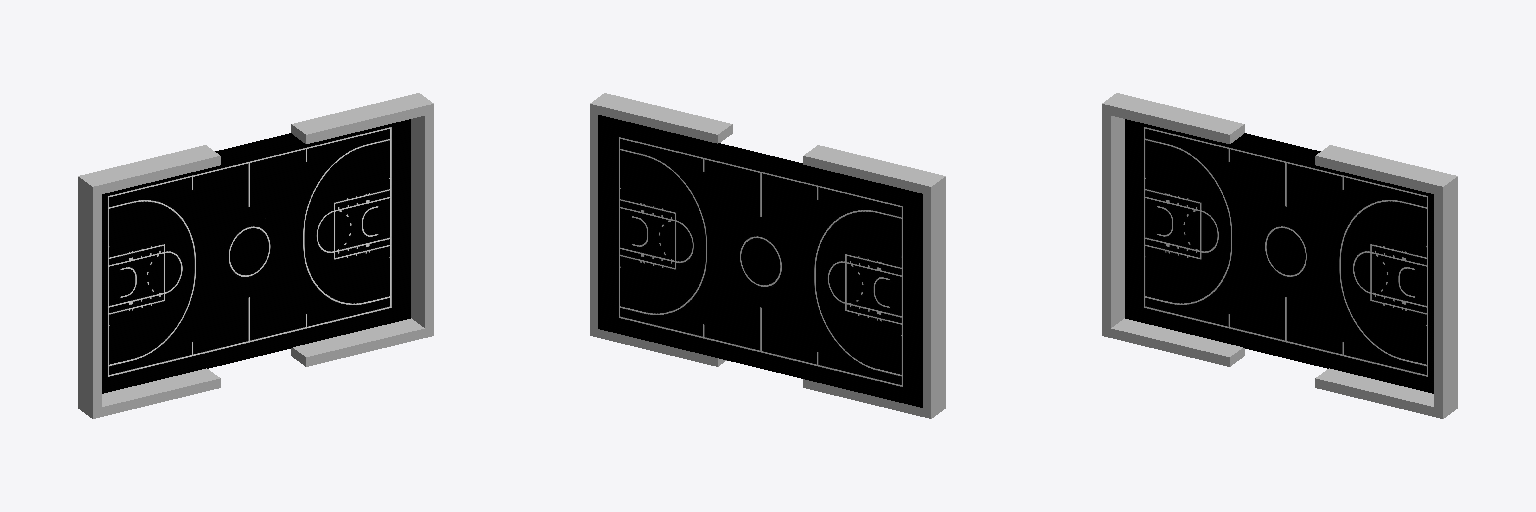
3 views of the same model, side by side, from view 1: azimuth 30°, elevation 25°; view 2: azimuth 150°, elevation 25°; view 3: azimuth 330°, elevation 25° (orthographic).
Parts seen in each view (by area): view 1: Object.3, Object.5, Object.2; view 2: Object.3, Object.5, Object.2; view 3: Object.3, Object.2, Object.5.
Boxes of the visible parts, x1,y1,x2,y2 form: Object.3: [102, 119, 410, 393]; Object.5: [78, 145, 220, 418]; Object.2: [291, 93, 433, 366]; Object.3: [598, 115, 922, 407]; Object.5: [803, 145, 945, 418]; Object.2: [590, 93, 732, 366]; Object.3: [1125, 119, 1433, 393]; Object.2: [1315, 145, 1457, 418]; Object.5: [1102, 93, 1244, 366].
Bounding box in the file's own units: 508 × 330 × 38.26.
2 materials, 1 textured.